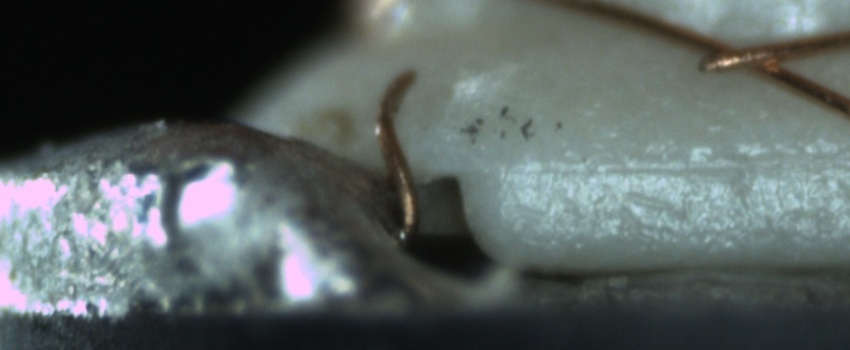CL: (674, 30, 813, 84)
DL: (524, 138, 850, 198)
